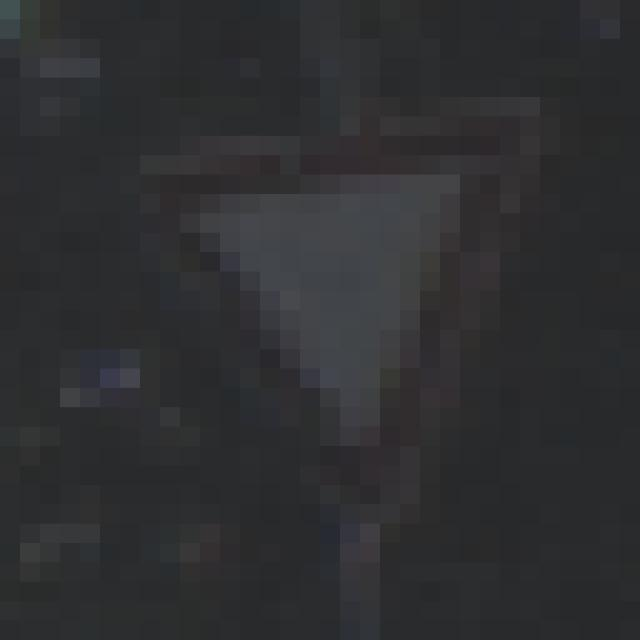Give Way: (101, 98, 541, 544)
